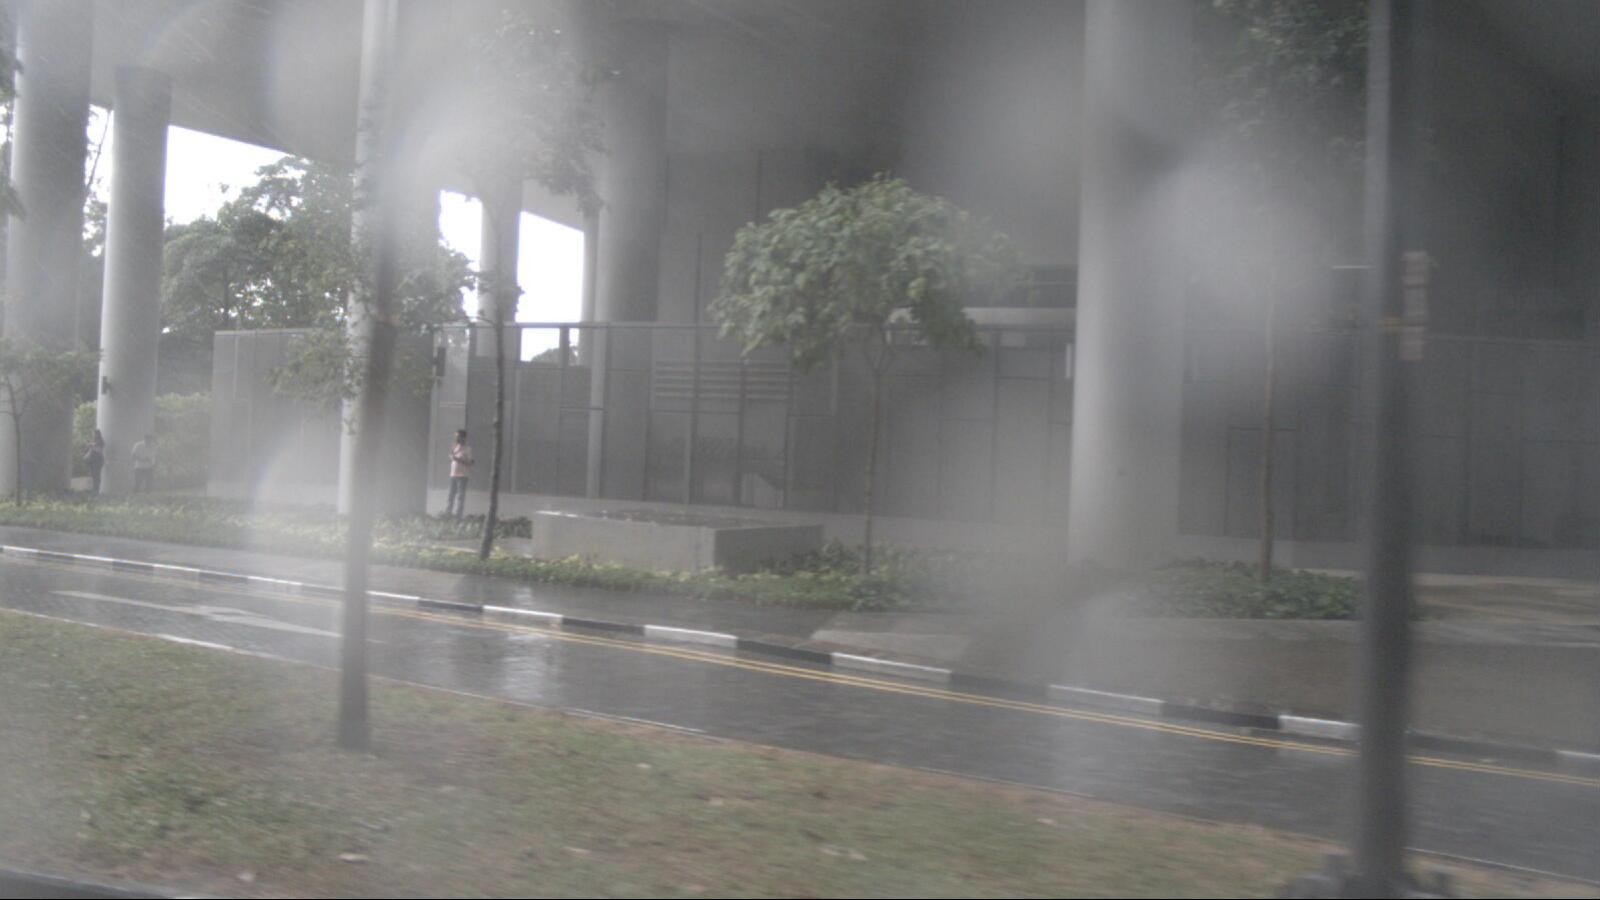human.pedestrian.adult-pedestrian.moving: (130, 436, 159, 497)
human.pedestrian.adult-pedestrian.standing: (443, 430, 475, 523), (82, 429, 107, 496)
